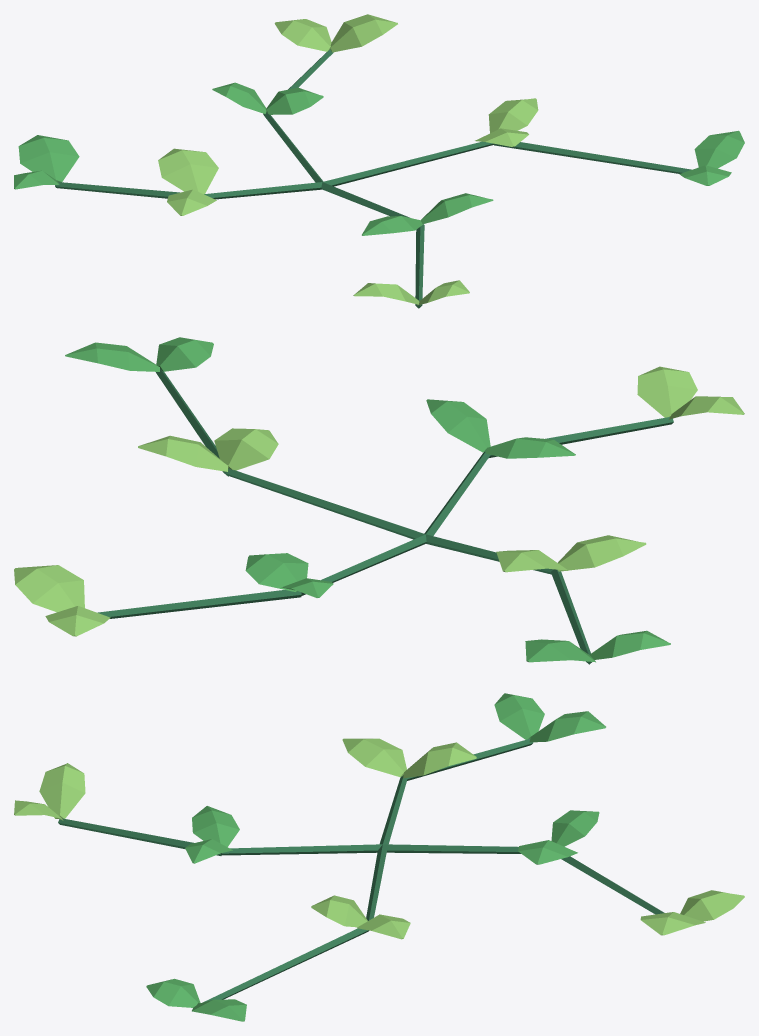
File: plant_creeper_c.glb
The picture shows the model from 3 angles, top to bottom: view 1: azimuth 30°, elevation 25°; view 2: azimuth 150°, elevation 25°; view 3: azimuth 270°, elevation 25°; orthographic projection. The views are drawn at different scales.
Visible parts, largest first — view 1: PlantCreeperC; view 2: PlantCreeperC; view 3: PlantCreeperC.
Boxes of the visible parts, x1,y1,x2,y2 form: PlantCreeperC: [14, 14, 744, 308]; PlantCreeperC: [14, 337, 744, 664]; PlantCreeperC: [14, 693, 744, 1021].
Size of the model in its own units: 1.47 by 0.0985 by 1.39.
